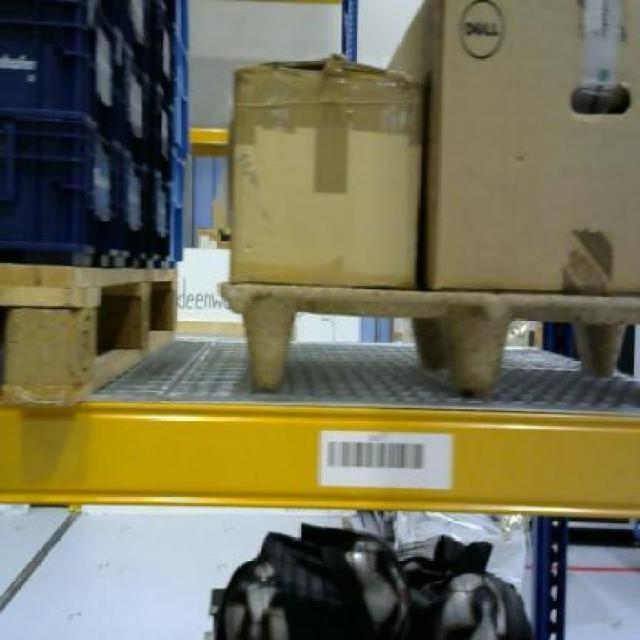box: (420, 0, 640, 288), (226, 52, 422, 283)
